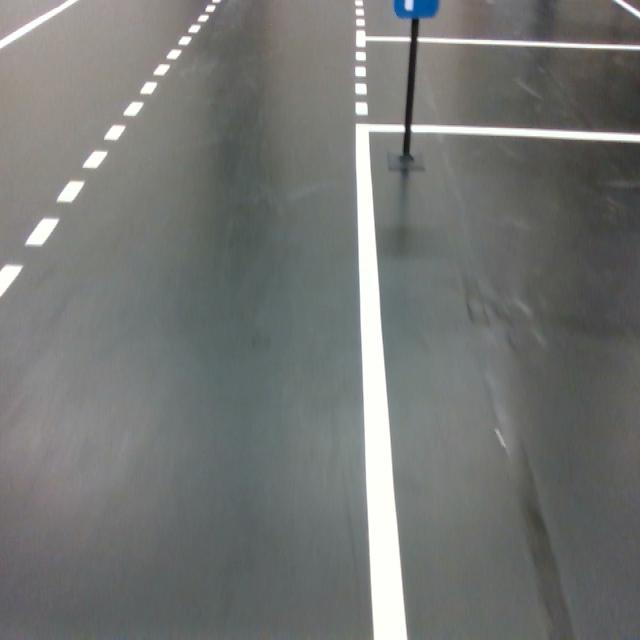parking-sign: (393, 0, 440, 19)
